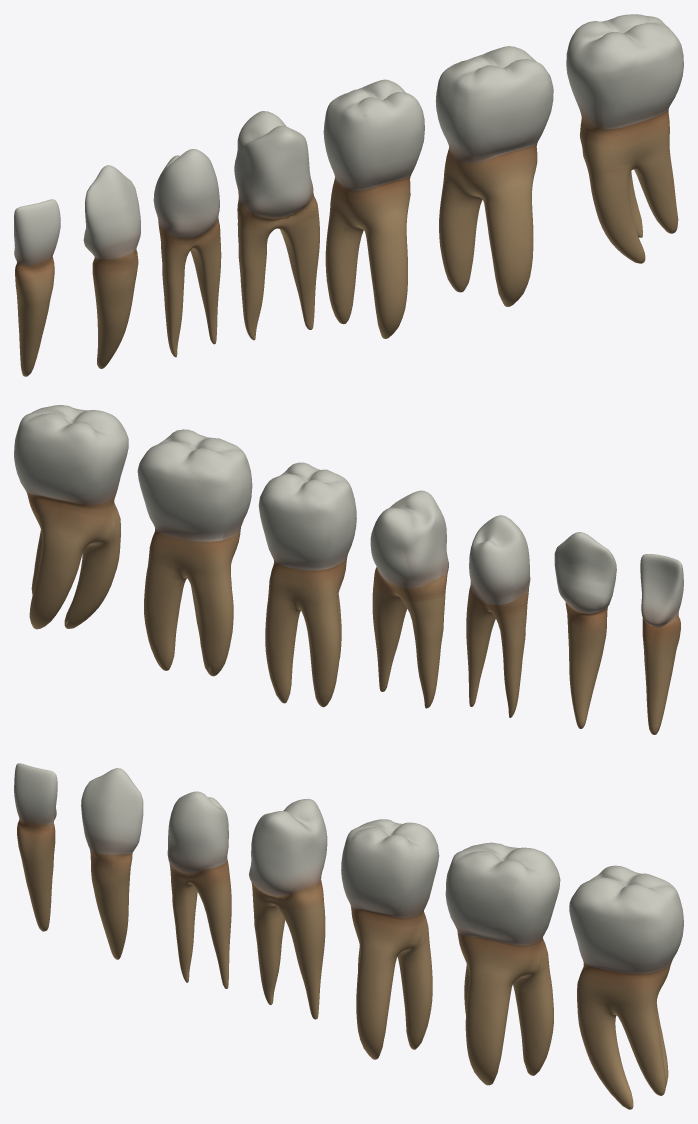
File: incisivo.glb
3 renders of one model, top to bottom at view 1: azimuth 30°, elevation 25°; view 2: azimuth 150°, elevation 25°; view 3: azimuth 330°, elevation 25°, orthographic. The views are drawn at different scales.
Visible parts, largest first — view 1: Object_2; view 2: Object_2; view 3: Object_2.
Part boxes in pixels (box(x1,y1,x2,y2)): Object_2: box(14, 14, 683, 376); Object_2: box(14, 405, 683, 734); Object_2: box(14, 763, 683, 1109).
Size of the model in its own units: 193 by 65.98 by 24.67.
Materials: 1 (1 with a texture image).
